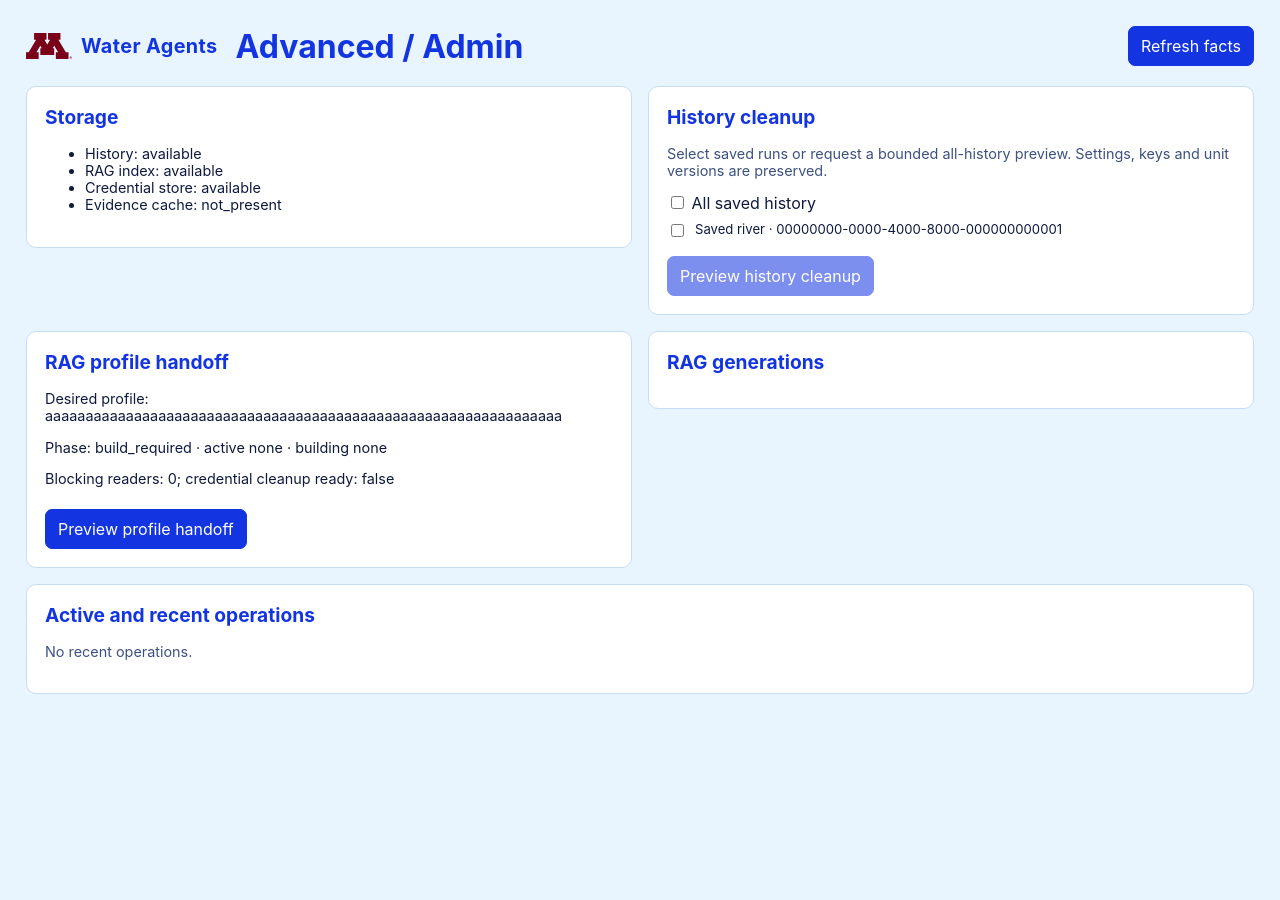
Scenario: requires second dependency preview and server phrase, then tracks accepted operation
Expected: the text "Saved river · 00000000-0000-4000-8000-000000000001" is shown, [671,221,1062,237]
Click the checkbox labelled "Saved river · 00000000-0000-4000-8000-000000000001": (678, 231) [671,224,684,237]
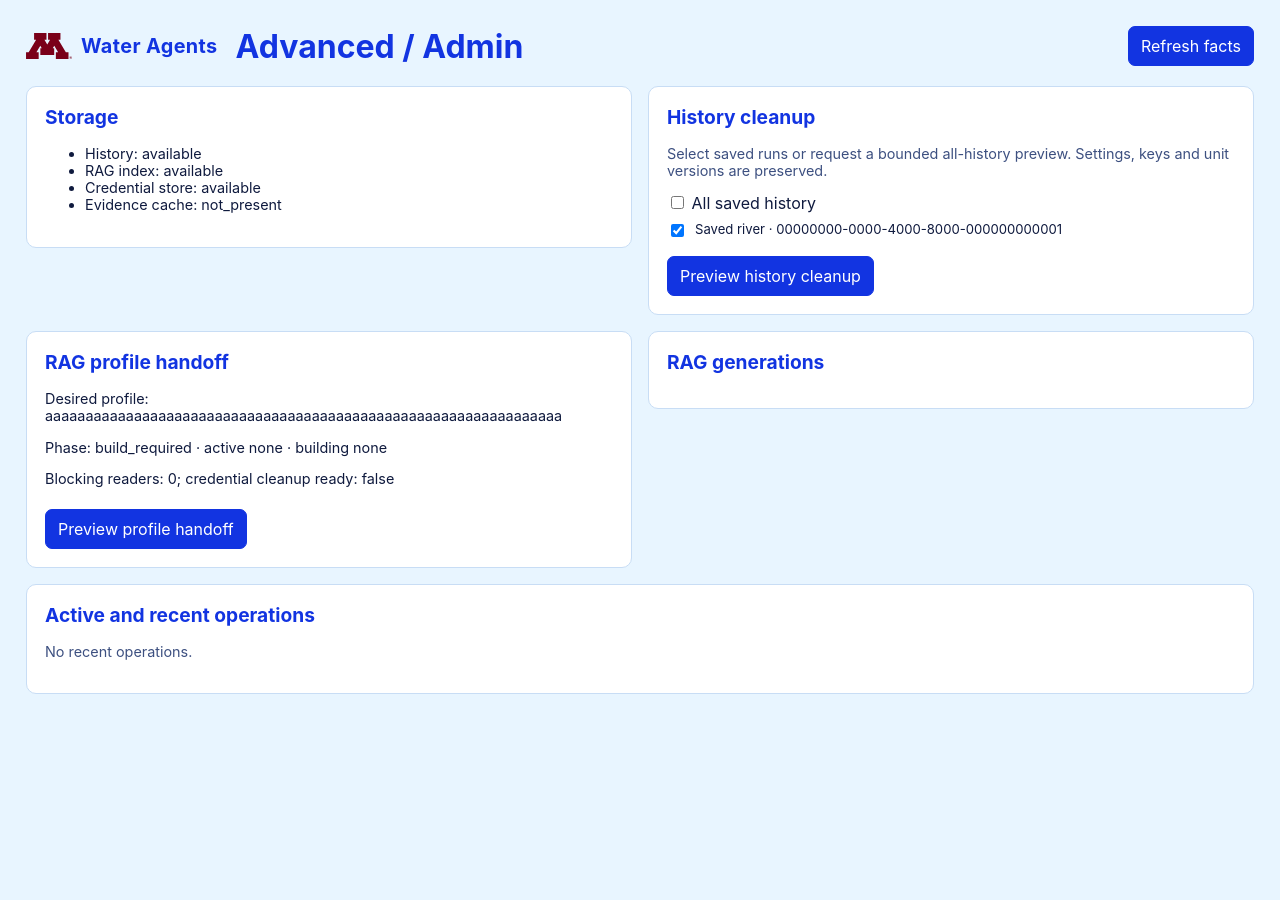
Click the button "Preview history cleanup": (770, 276) [667,256,874,296]
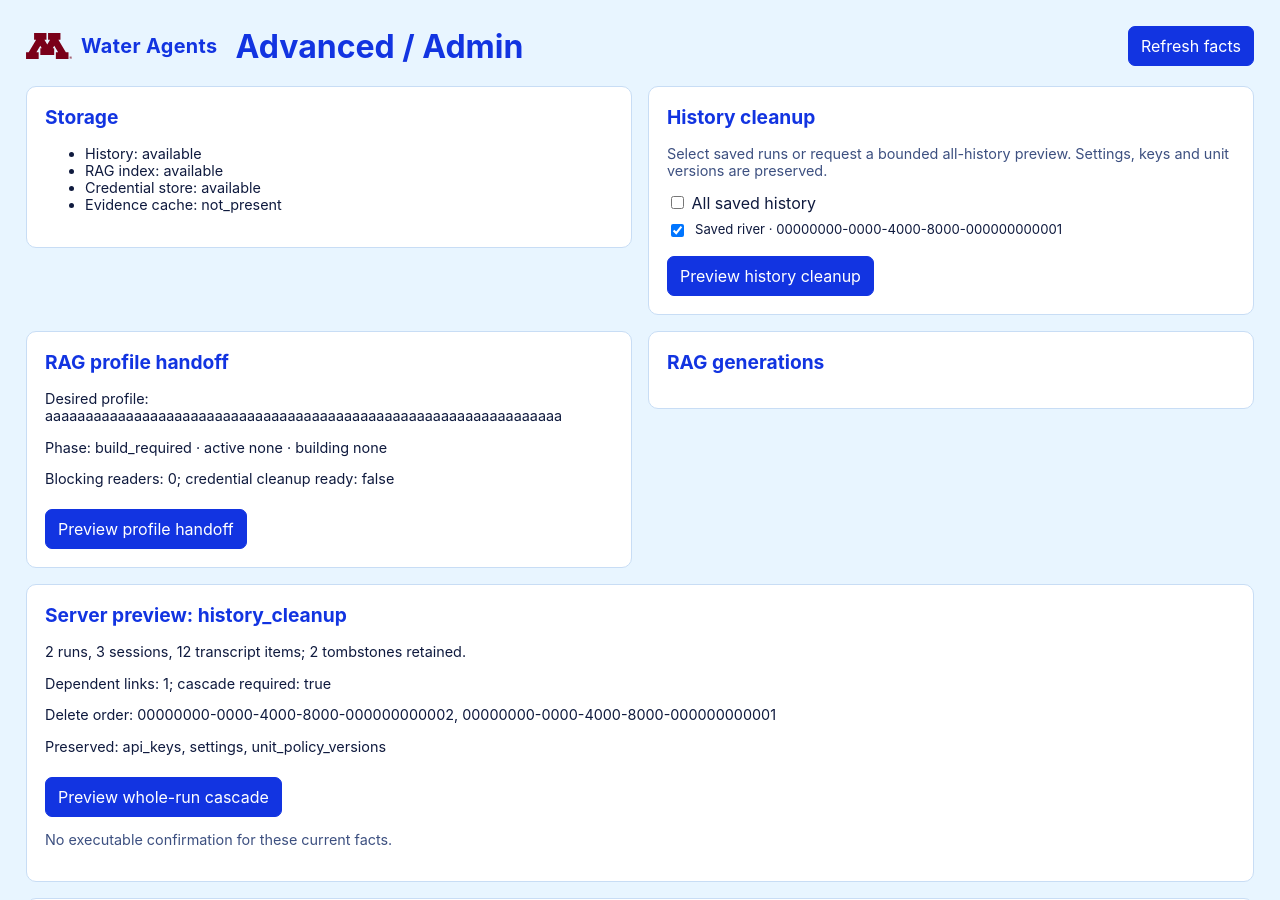
Now the text "2 tombstones retained" is shown, box [45,643,466,660]
Click the button "Preview whole-run cascade": (163, 797) [45,777,282,817]
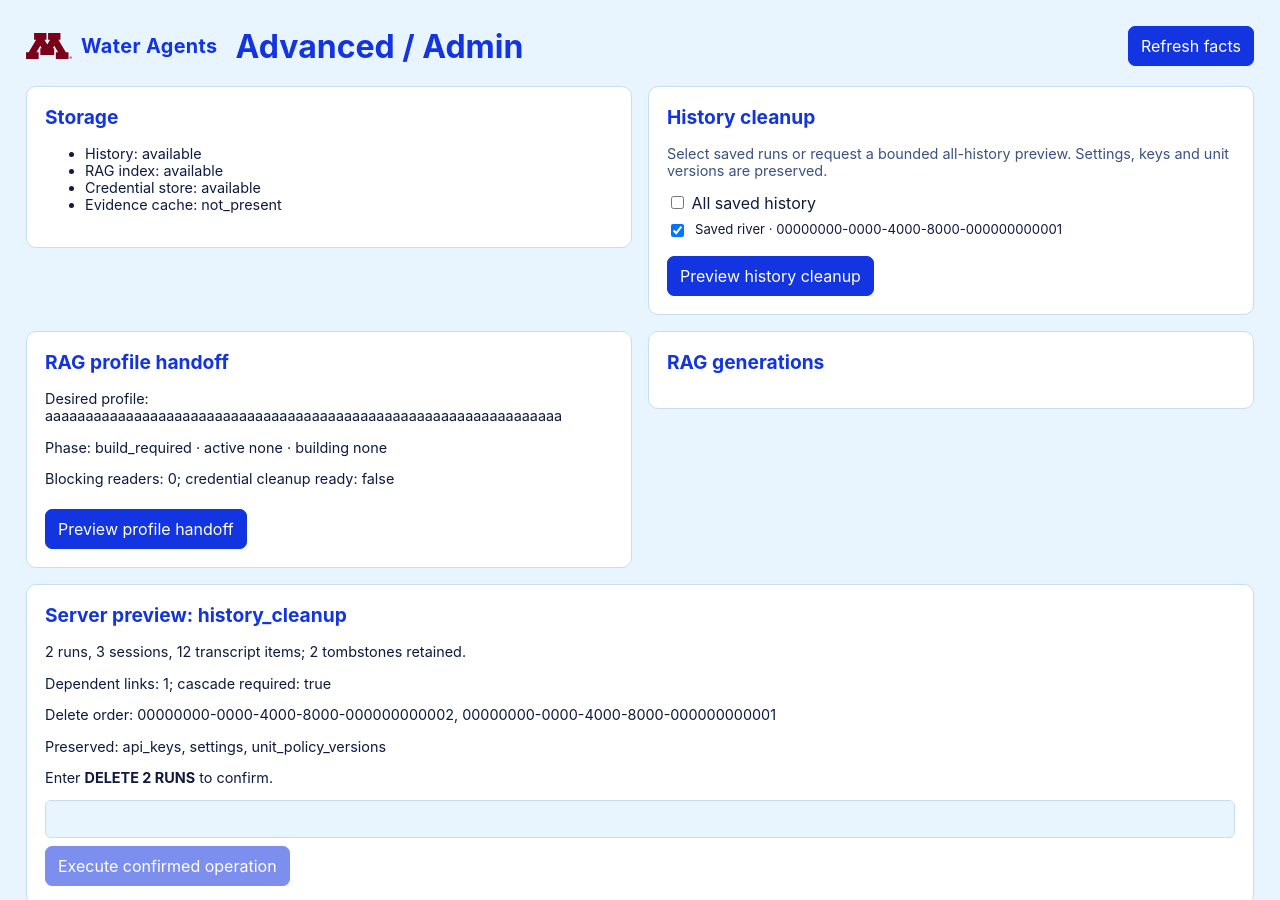
Now the button "Execute confirmed operation" is disabled, box [45,846,290,886]
In the field named "Admin confirmation phrase": (640, 819) [45,800,1235,838], type "DELETE 2 RUNS"
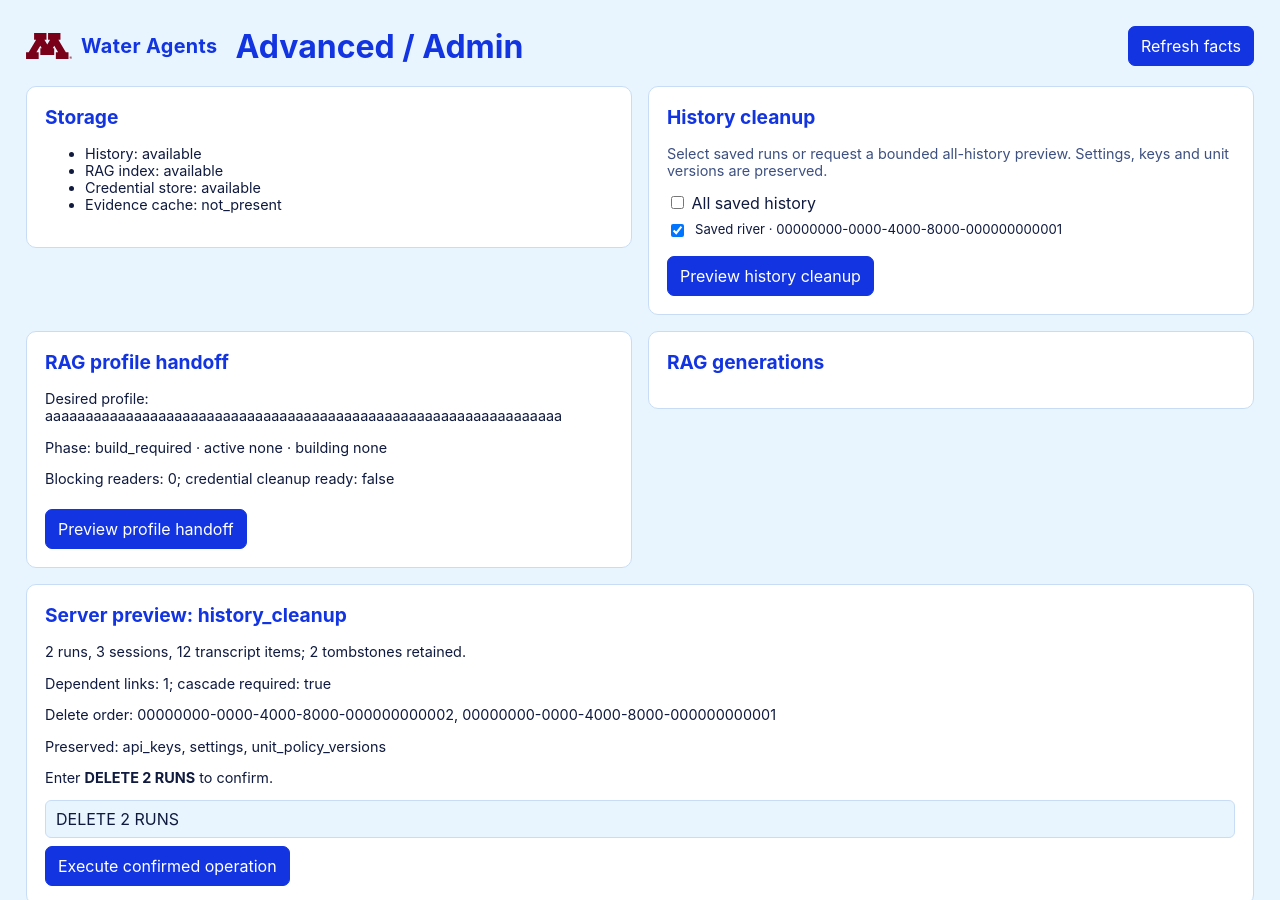
Click the button "Execute confirmed operation": (167, 866) [45,846,290,886]
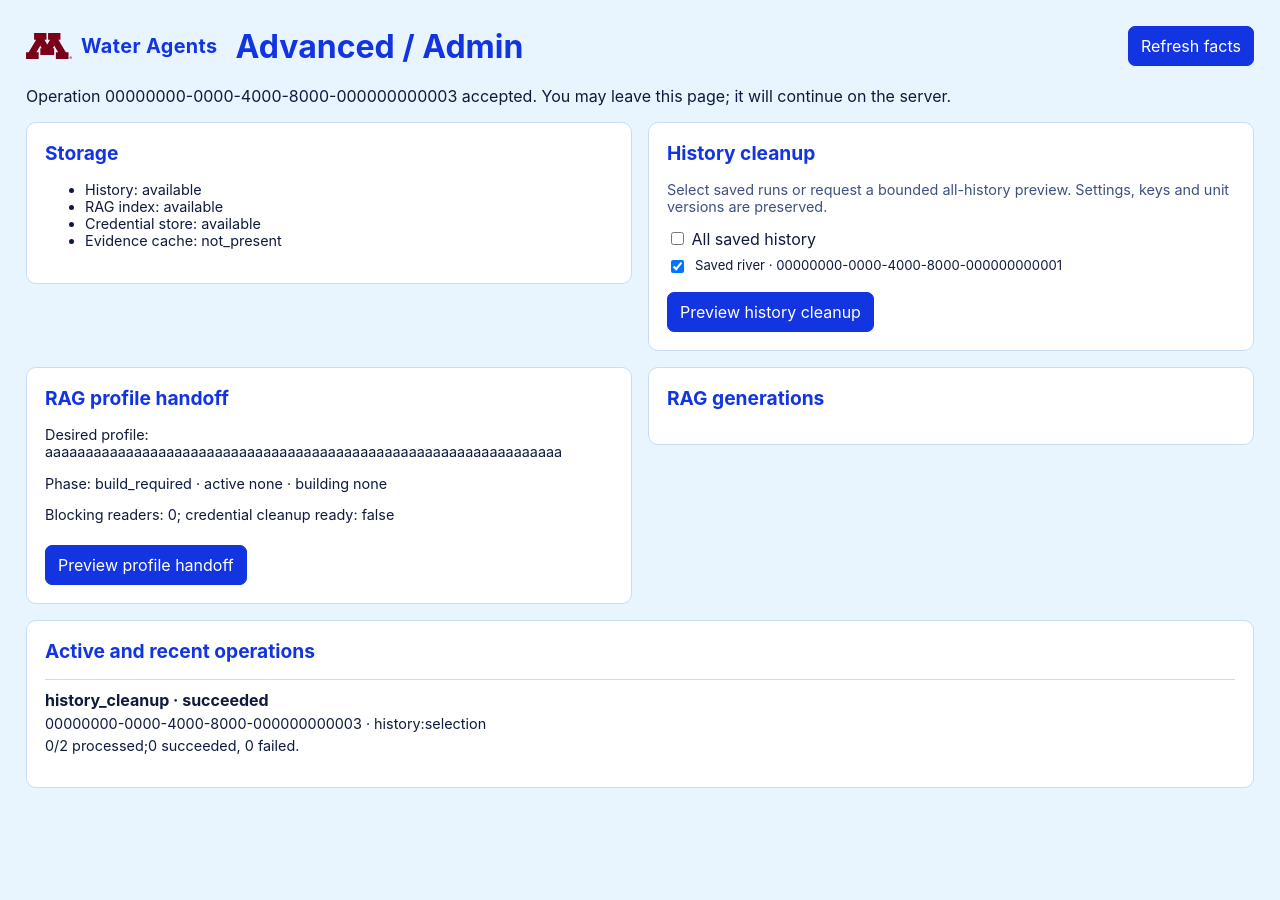
Now the text "accepted. You may leave this page" is shown, box [26,86,951,106]
